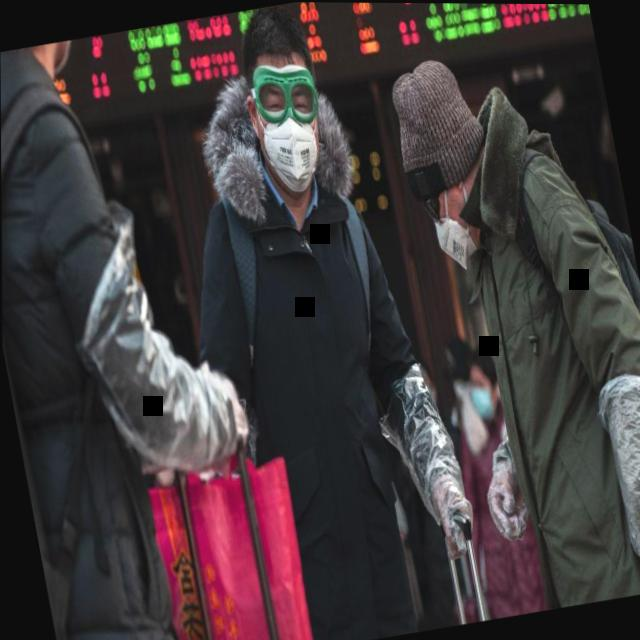Mask: (377, 43, 507, 285), (221, 1, 343, 209), (453, 328, 509, 426)
